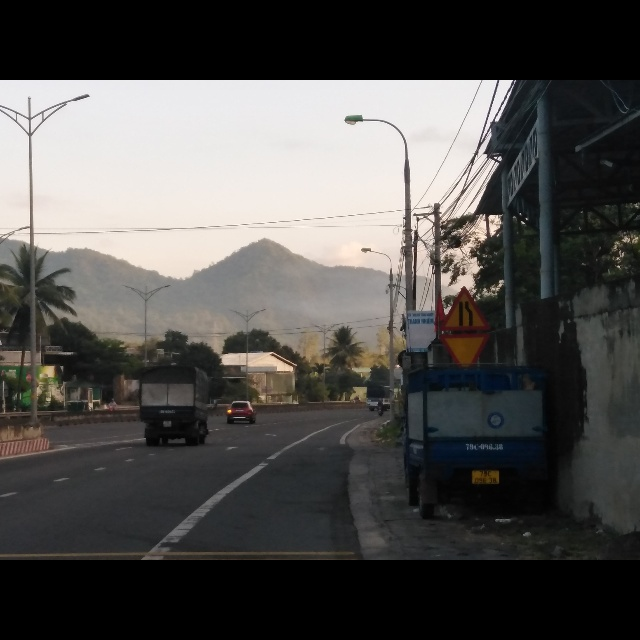Giao nhau với đường ưu tiên: (442, 334, 491, 368)
Đường bị hẹp bên phải: (439, 286, 490, 330)
